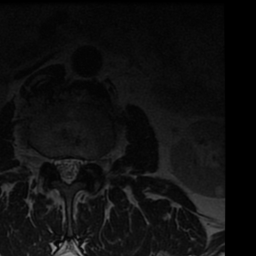CCS_normal: (62, 150, 72, 189)
LFS_severe_stenosis: (83, 152, 92, 174)
LLS_stenosis: (73, 151, 82, 179)
RFS_stenosis: (44, 149, 53, 172)
RLS_stenosis: (53, 151, 63, 176)
